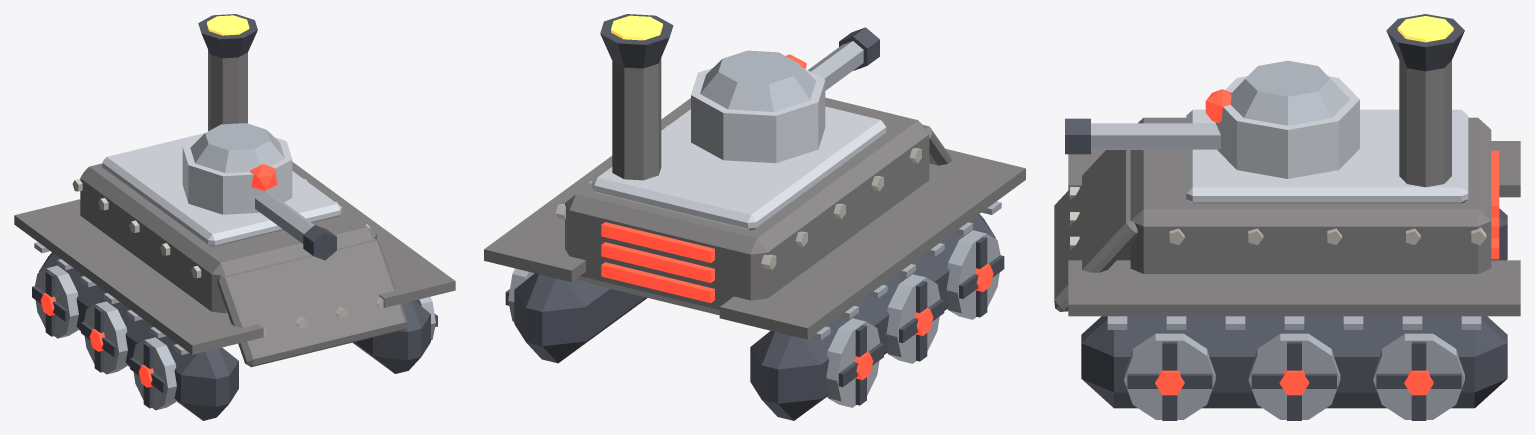
The model's file is steam_tank.glb.
3 views of the same model, side by side, from view 1: azimuth 30°, elevation 25°; view 2: azimuth 150°, elevation 25°; view 3: azimuth 270°, elevation 25° (orthographic). The views are drawn at different scales.
Visible parts, largest first — view 1: Cube.031, Cube.030, Cube.008, Cube.032, Cube, Cylinder.036, Cube.023, Cone, Cube.015, Cylinder.039, Cylinder.004, Cylinder (+9 smaller); view 2: Cube.030, Cube.008, Cube.032, Cube, Cylinder.036, Cube.015, Cylinder.039, Cube.023, Cone, Cylinder.004, Cylinder.002, Cylinder (+14 smaller); view 3: Cube.030, Cube.023, Cube.015, Cube.032, Cylinder.036, Cube.031, Cylinder.039, Cone, Cylinder.006, Cylinder.010, Cylinder.008, Cylinder.037 (+16 smaller).
Part boxes in pixels (<box>): Cube.031: <box>217,238,407,367</box>; Cube.030: <box>80,163,376,313</box>; Cube.008: <box>14,199,263,354</box>; Cube.032: <box>102,133,341,246</box>; Cube: <box>39,252,238,420</box>; Cylinder.036: <box>182,137,292,214</box>; Cube.023: <box>292,162,455,307</box>; Cone: <box>190,123,284,172</box>; Cube.015: <box>352,300,430,373</box>; Cylinder.039: <box>208,49,247,131</box>; Cylinder.004: <box>35,265,78,338</box>; Cylinder: <box>133,337,176,410</box>; Cube.030: <box>565,97,929,315</box>; Cube.008: <box>719,148,1025,339</box>; Cube.032: <box>592,106,886,230</box>; Cube: <box>750,214,995,420</box>; Cylinder.036: <box>691,67,825,163</box>; Cube.015: <box>514,273,646,363</box>; Cylinder.039: <box>612,58,661,180</box>; Cube.023: <box>484,98,690,281</box>; Cone: <box>700,50,815,111</box>; Cylinder.004: <box>826,318,880,407</box>; Cylinder.002: <box>886,274,940,363</box>; Cylinder: <box>946,230,1000,319</box>; Cube.030: <box>1130,117,1491,273</box>; Cube.023: <box>1068,260,1520,316</box>; Cube.015: <box>1081,316,1507,408</box>; Cube.032: <box>1186,109,1468,203</box>; Cylinder.036: <box>1215,76,1359,178</box>; Cube.031: <box>1054,150,1137,311</box>; Cylinder.039: <box>1399,60,1451,187</box>; Cone: <box>1230,60,1349,125</box>; Cylinder.006: <box>1124,333,1215,419</box>; Cylinder.010: <box>1373,333,1464,419</box>; Cylinder.008: <box>1248,333,1340,419</box>; Cylinder.037: <box>1091,123,1220,149</box>.
Size of the model in its own units: 1.25 by 1.16 by 1.42.
